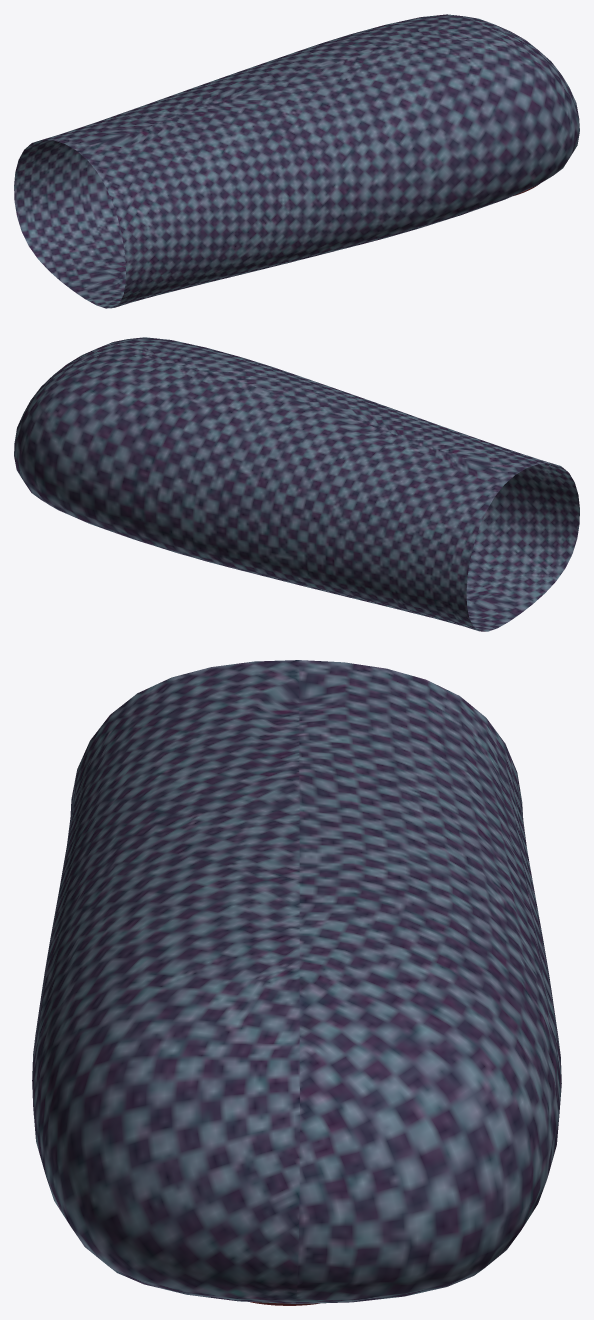
File: bear_hand.fbx
3 renders of one model, top to bottom at view 1: azimuth 30°, elevation 25°; view 2: azimuth 150°, elevation 25°; view 3: azimuth 270°, elevation 25°, orthographic. The views are drawn at different scales.
Parts seen in each view (by area): view 1: Roundcube.002; view 2: Roundcube.002; view 3: Roundcube.002.
Part boxes in pixels (<box>): Roundcube.002: <box>14,14,579,308</box>; Roundcube.002: <box>14,337,579,631</box>; Roundcube.002: <box>32,660,561,1305</box>.
Bounding box in the file's own units: 21.36 × 6.94 × 10.01.
